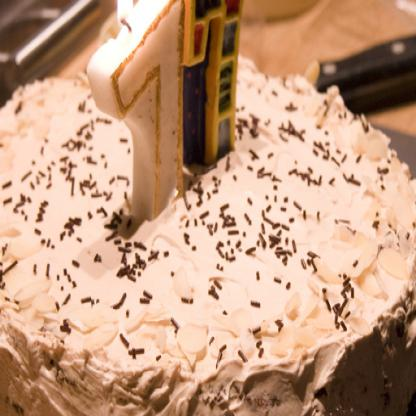knife: (304, 0, 415, 113)
